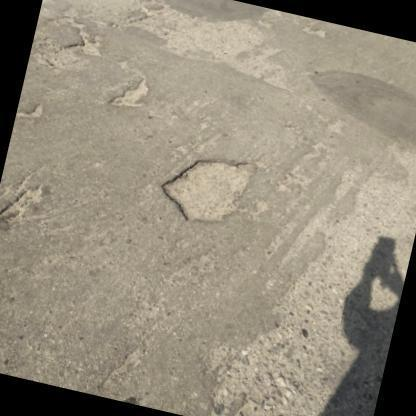pothole: (136, 0, 292, 91), (204, 318, 326, 416), (160, 156, 252, 222), (28, 10, 110, 69), (0, 175, 45, 223), (111, 80, 150, 108)
